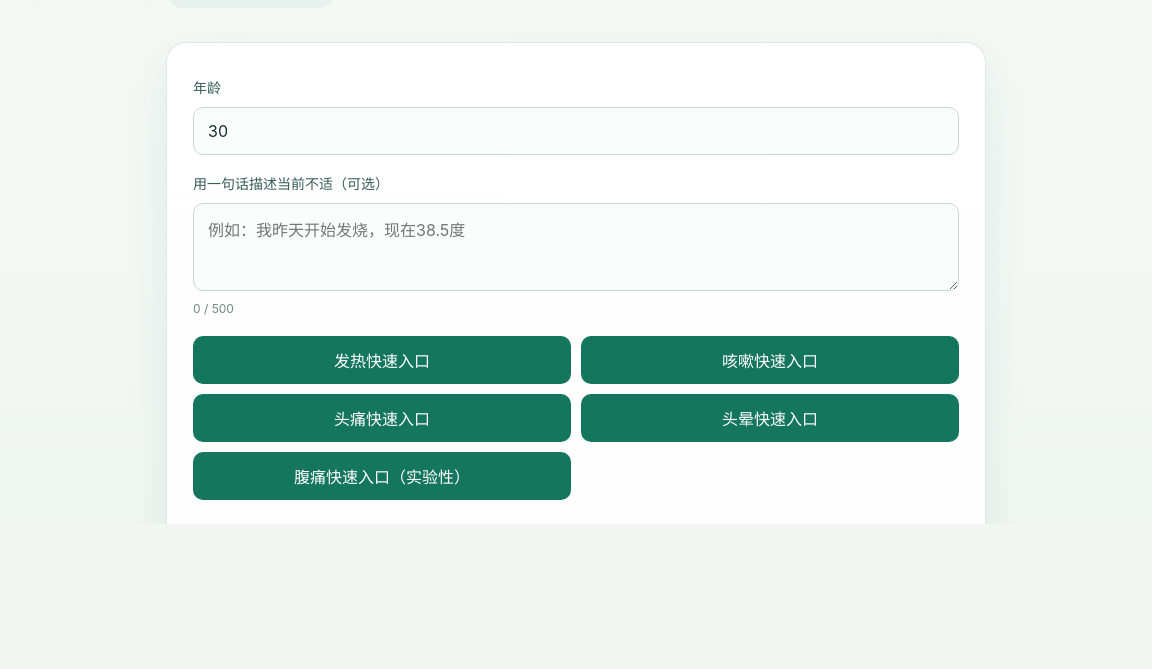
Test: 问诊导航 › 返回首页取消时保留会话，确认时清空会话
The image size is (1152, 669).
(page scrolled)
Step 1. Click the button "发热快速入口" → [382, 360], box [193,336,571,384]
(page scrolled)
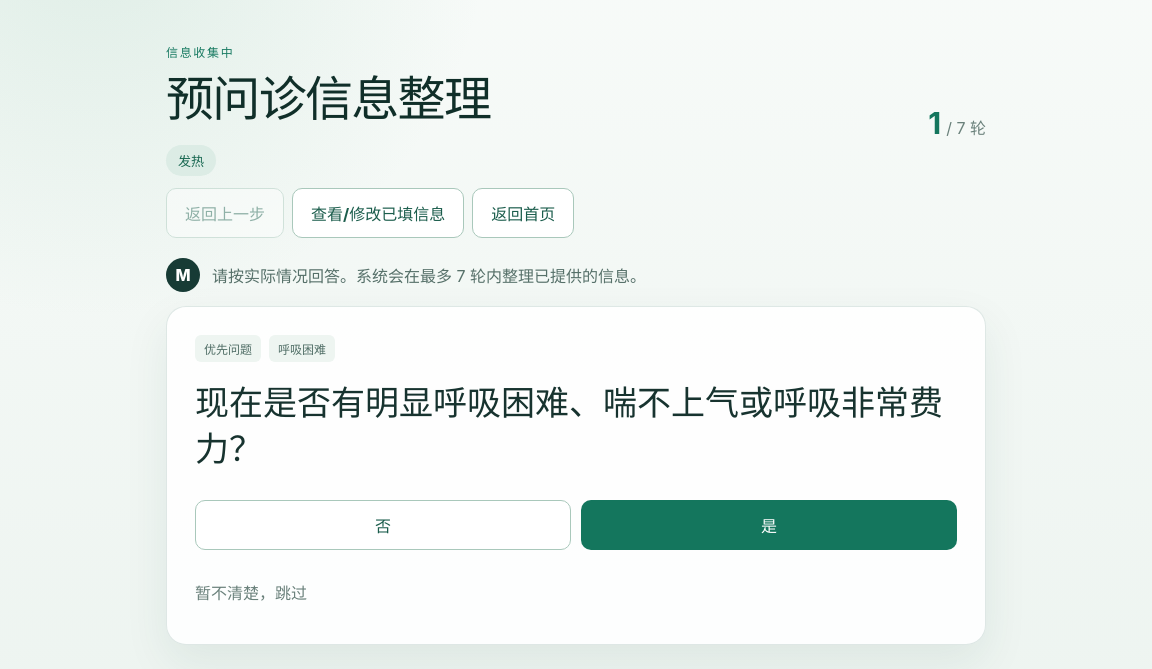
Step 2. Click the button "返回首页" → [523, 213], box [472,188,574,238]
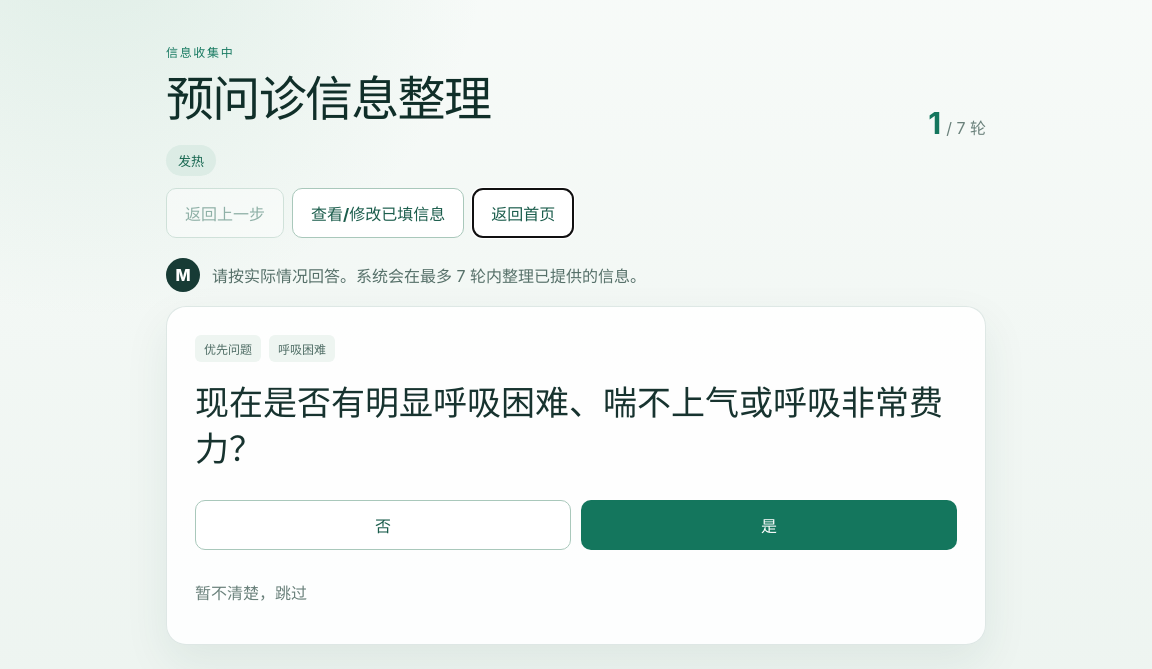
Result: the heading "预问诊信息整理" is shown at [166,73,490,125]
Step 3. Click the button "返回首页" → [523, 213], box [472,188,574,238]
(page scrolled)
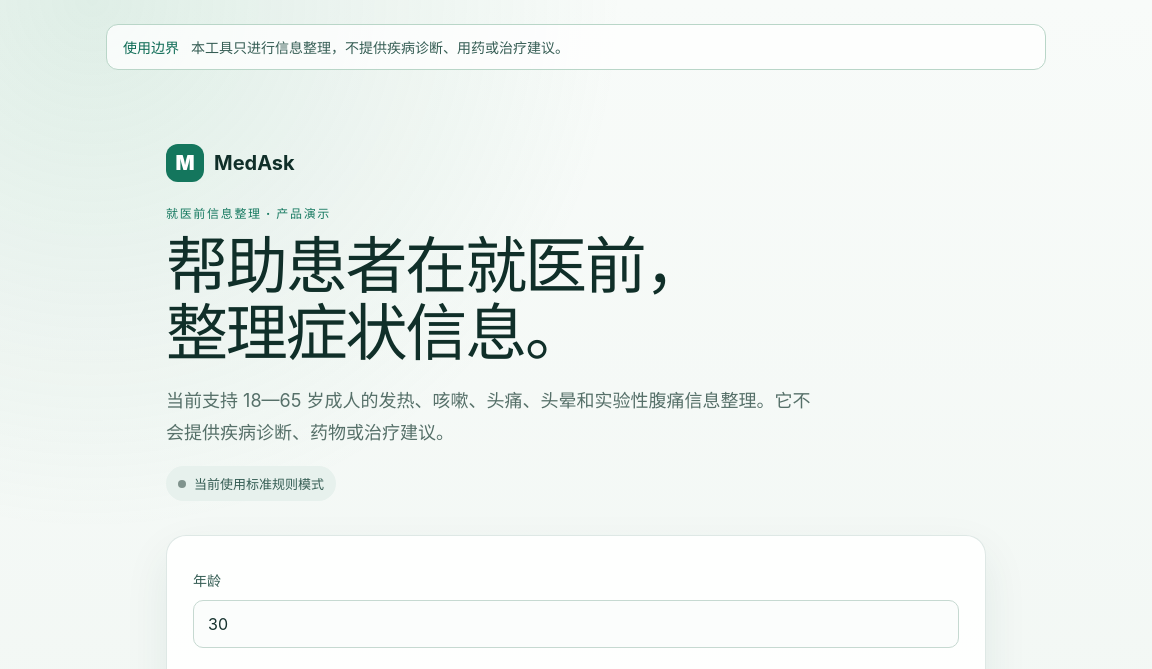
Result: the heading "帮助患者在就医前，整理症状信息。" is shown at [166,228,704,370]
